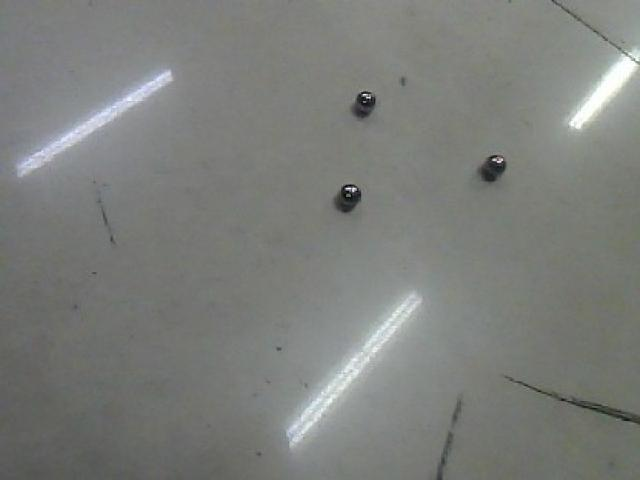steel-ball: (323, 168, 372, 223), (344, 77, 390, 125), (477, 143, 514, 186)
